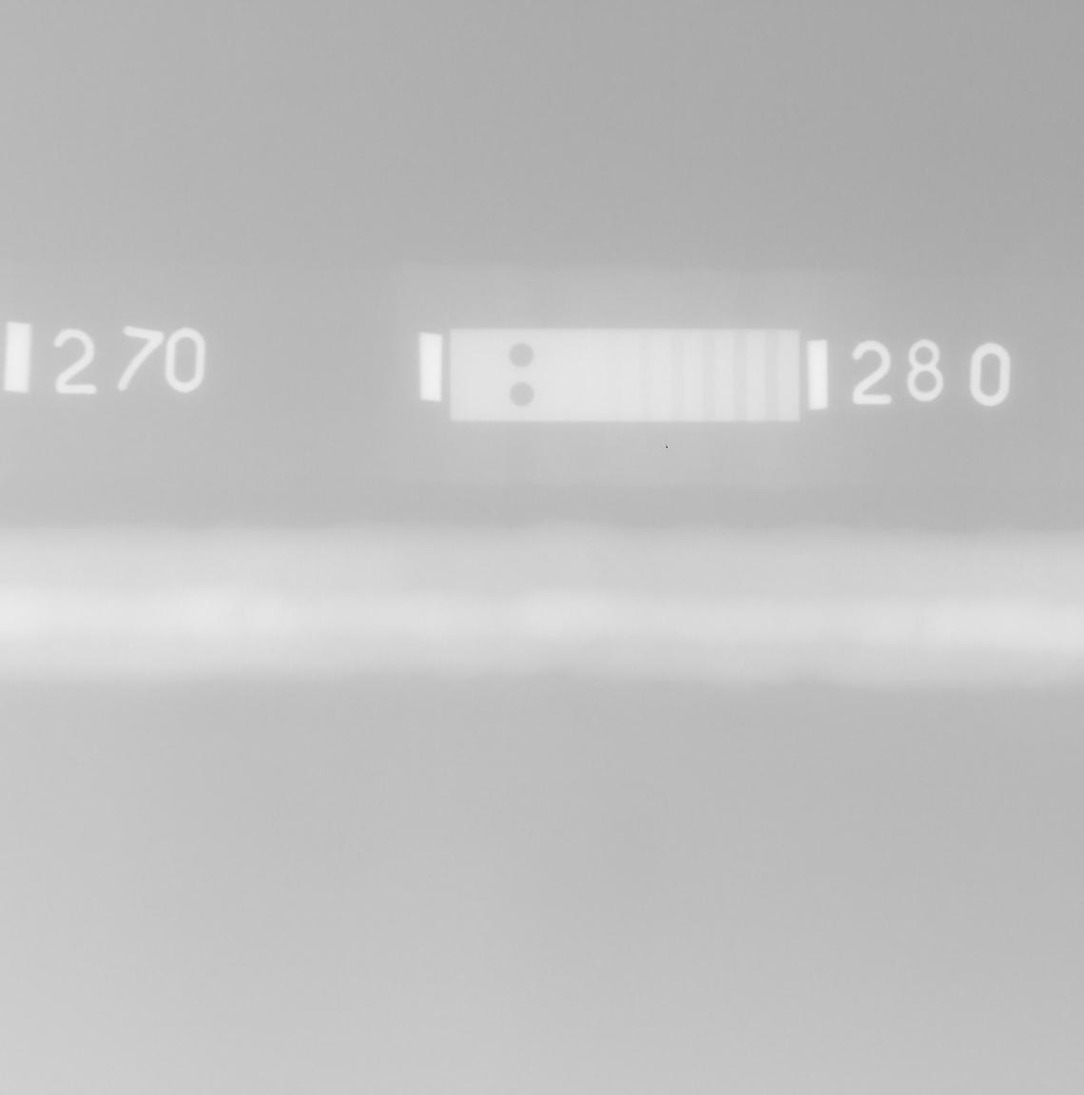Reference Standard 2: (450, 329, 800, 422)
